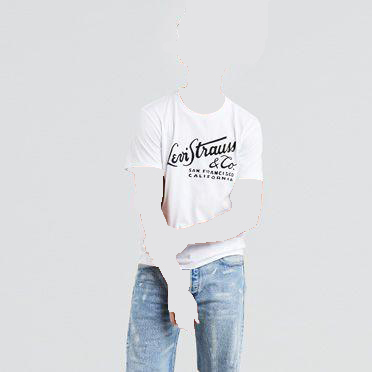teeshirt: (122, 87, 271, 270)
